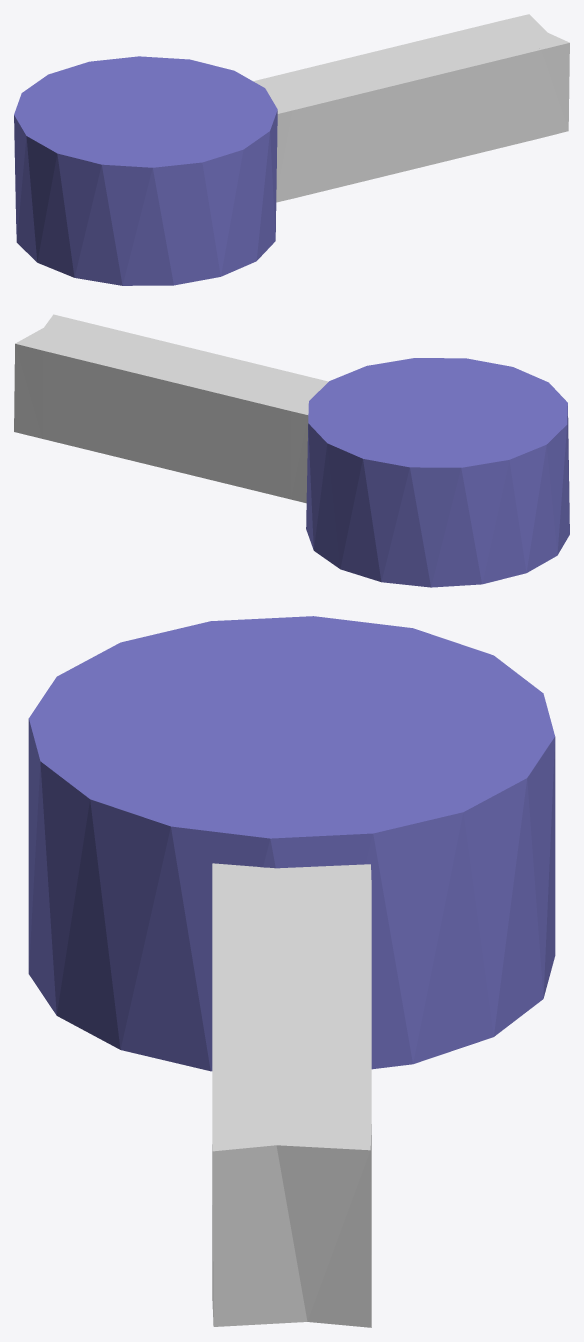
3 views of the same model, one above another, from view 1: azimuth 30°, elevation 25°; view 2: azimuth 150°, elevation 25°; view 3: azimuth 270°, elevation 25° (orthographic). The views are drawn at different scales.
Parts seen in each view (by area): view 1: Link3_002; view 2: Link3_002; view 3: Link3_002.
Boxes of the visible parts, left/top/right/bottom form: Link3_002: left=14, top=14, right=569, bottom=285; Link3_002: left=14, top=314, right=569, bottom=587; Link3_002: left=28, top=616, right=555, bottom=1327.
Bounding box in the file's own units: 0.4466 × 0.1964 × 0.0979.
